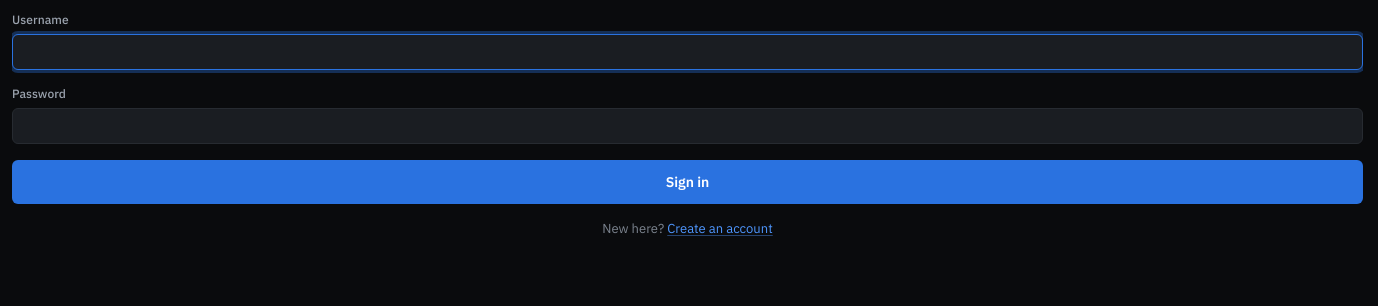
Test: <CredentialsForm /> › announces a form-level failure
Type "alice" into the field labelled "Username". click: {"x": 688, "y": 52}
box: x1=12 y1=34 x2=1363 y2=70
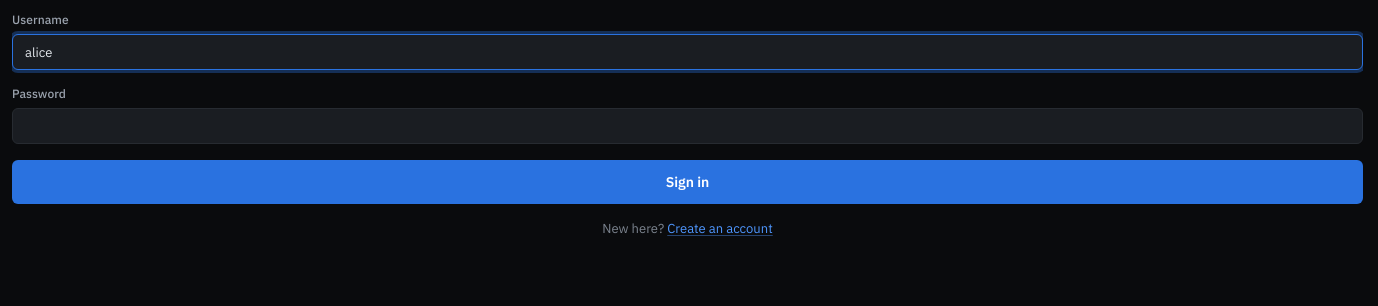
Type "wrong" into the password field labelled "Password". click: {"x": 688, "y": 126}
box: x1=12 y1=108 x2=1363 y2=144
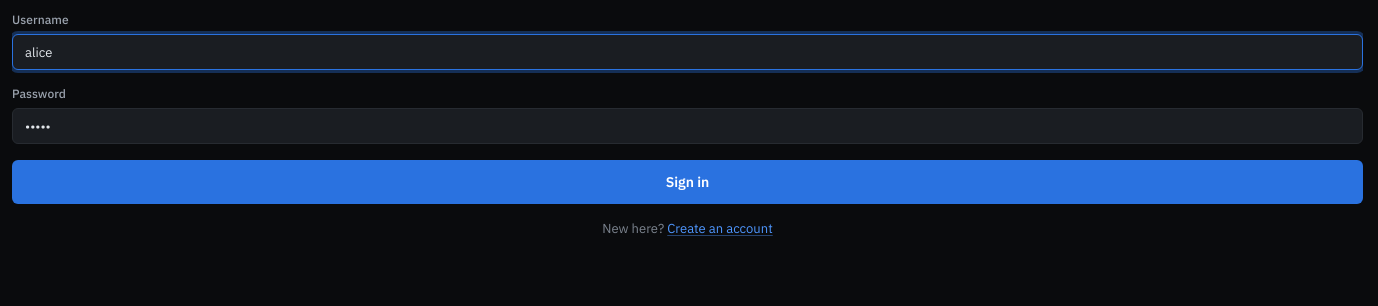
Click the button "Sign in". click: {"x": 688, "y": 182}
box: x1=12 y1=160 x2=1363 y2=204
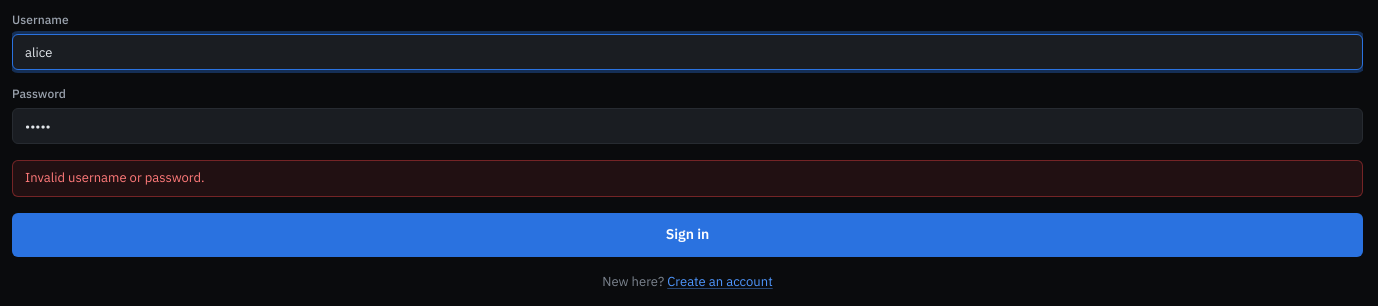
Check: the message reads "Invalid username or password.", box x1=25 y1=169 x2=205 y2=186
